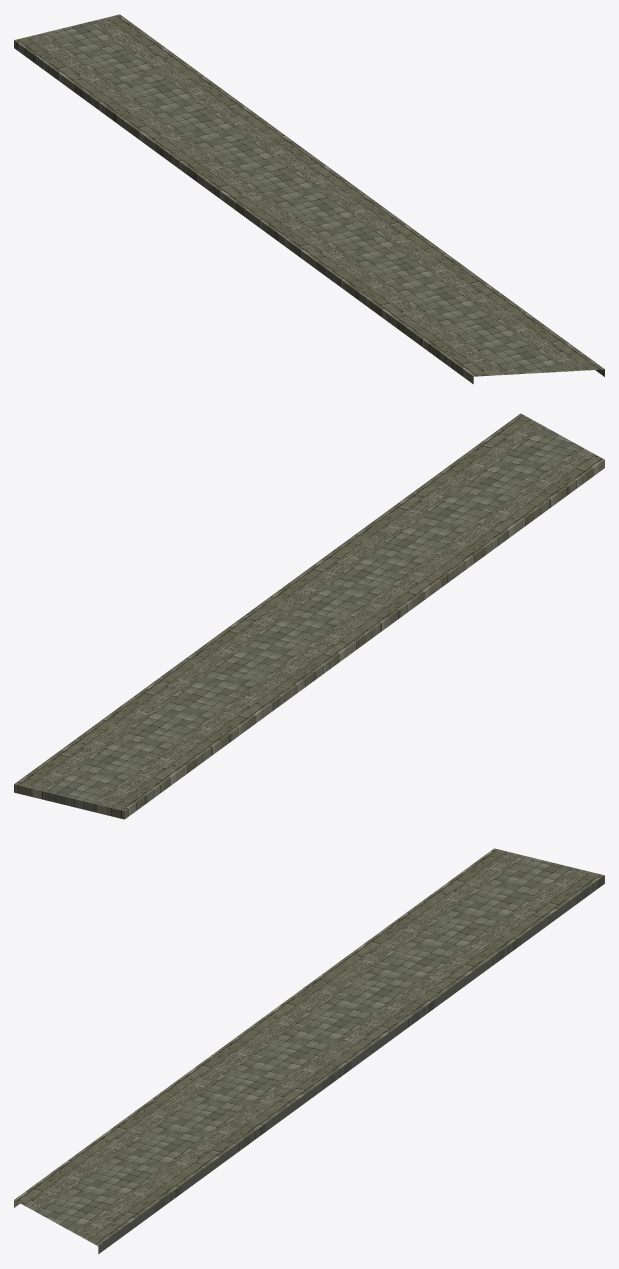
Rendered from Item_3001_wujian002_luwen.FBX.
The picture shows the model from 3 angles, top to bottom: view 1: azimuth 30°, elevation 25°; view 2: azimuth 150°, elevation 25°; view 3: azimuth 330°, elevation 25°; orthographic projection. The views are drawn at different scales.
Visible parts, largest first — view 1: Item_3001_wujian002_luwen; view 2: Item_3001_wujian002_luwen; view 3: Item_3001_wujian002_luwen.
Boxes of the visible parts, left/top/right/bottom form: Item_3001_wujian002_luwen: left=14, top=14, right=604, bottom=384; Item_3001_wujian002_luwen: left=14, top=413, right=604, bottom=819; Item_3001_wujian002_luwen: left=14, top=848, right=604, bottom=1254.
Size of the model in its own units: 386 by 27.52 by 3063.
